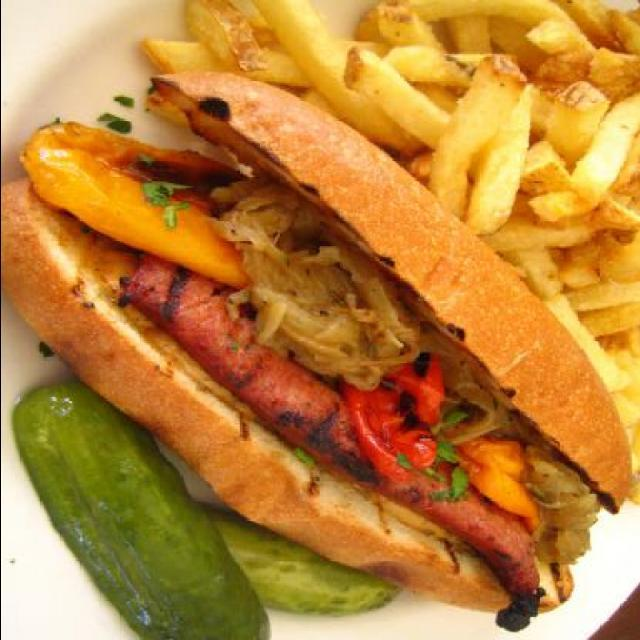Zucchini: (20, 368, 286, 617)
